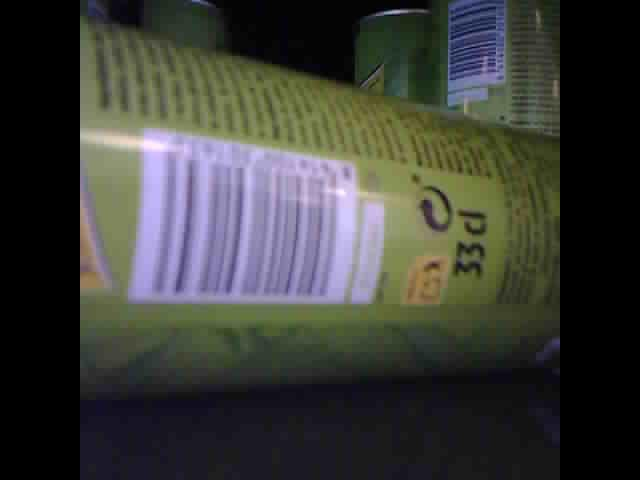schweppes: (80, 9, 563, 398), (442, 1, 560, 140), (354, 9, 443, 112)
